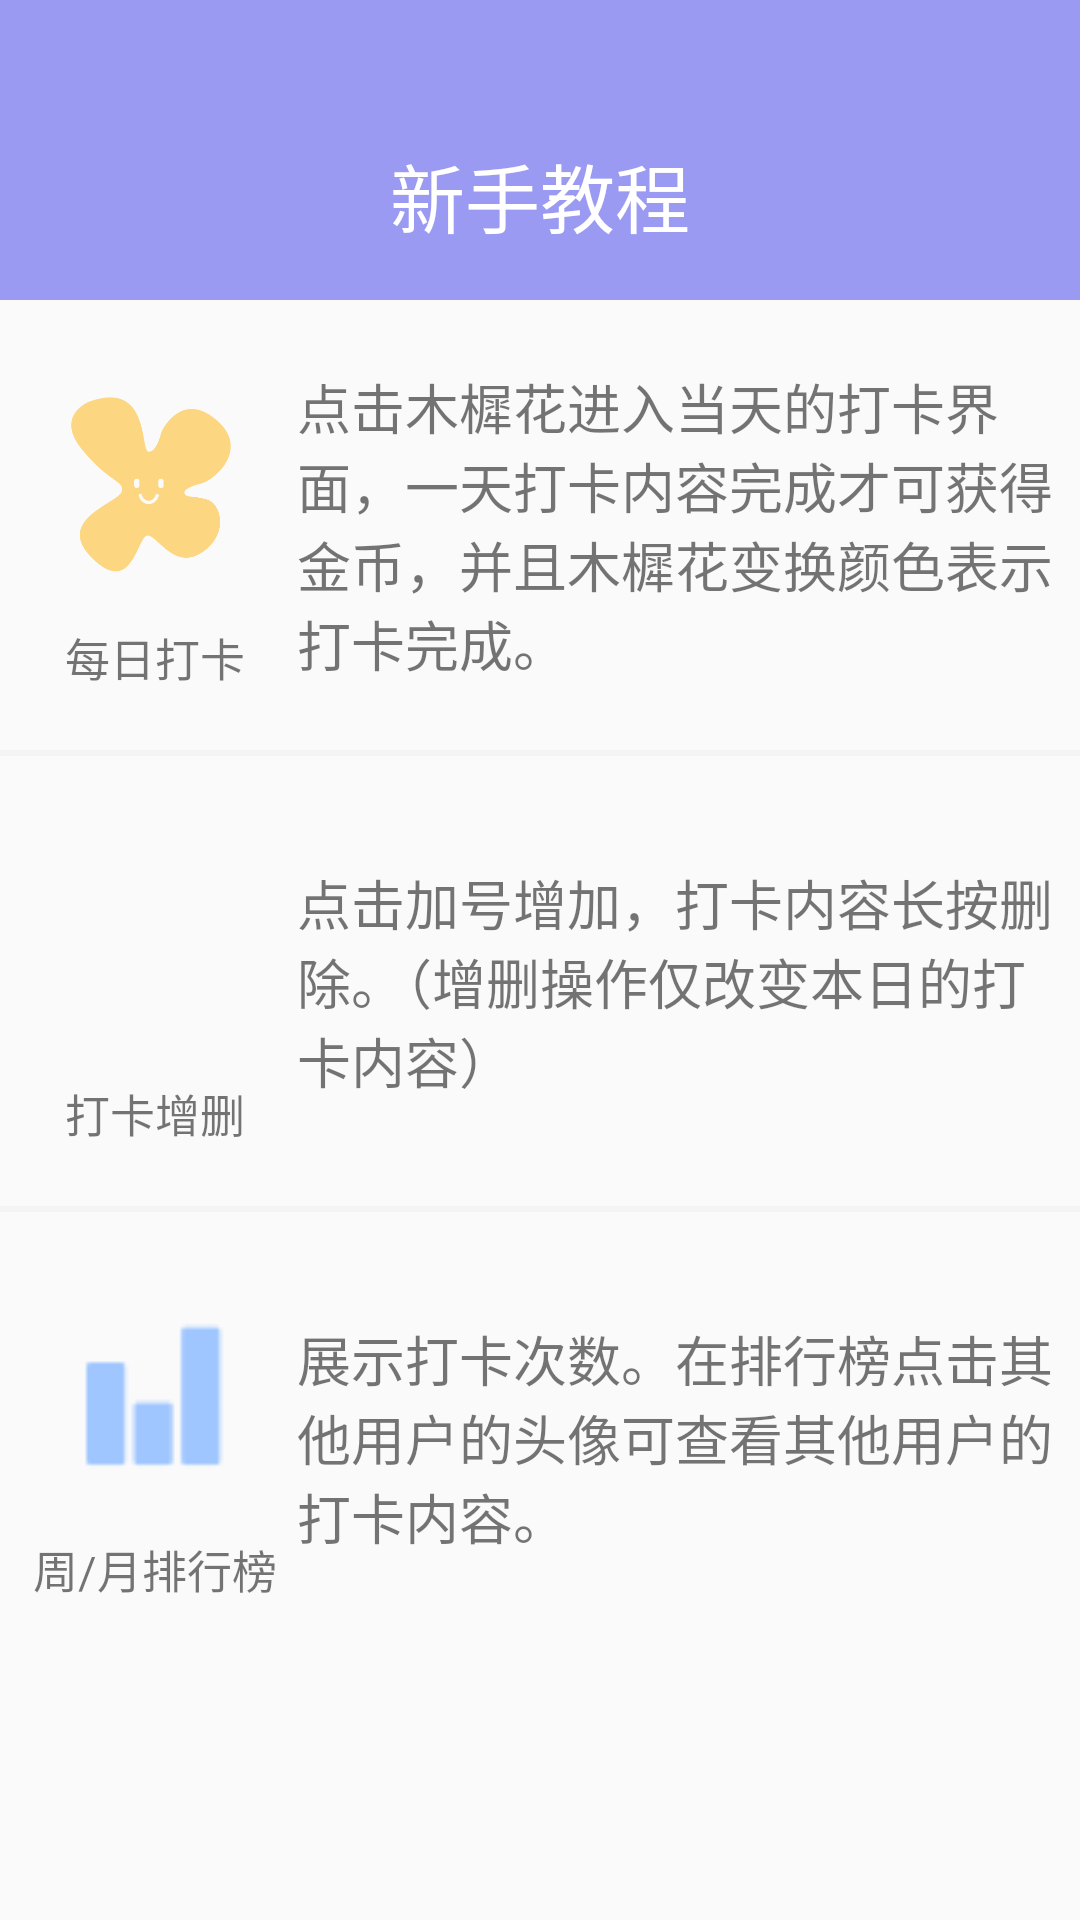

Icons on this 1080x1920 Android screen, each with its box as (x1, y1, x2, y2):
rank: (86, 1326, 221, 1466)
